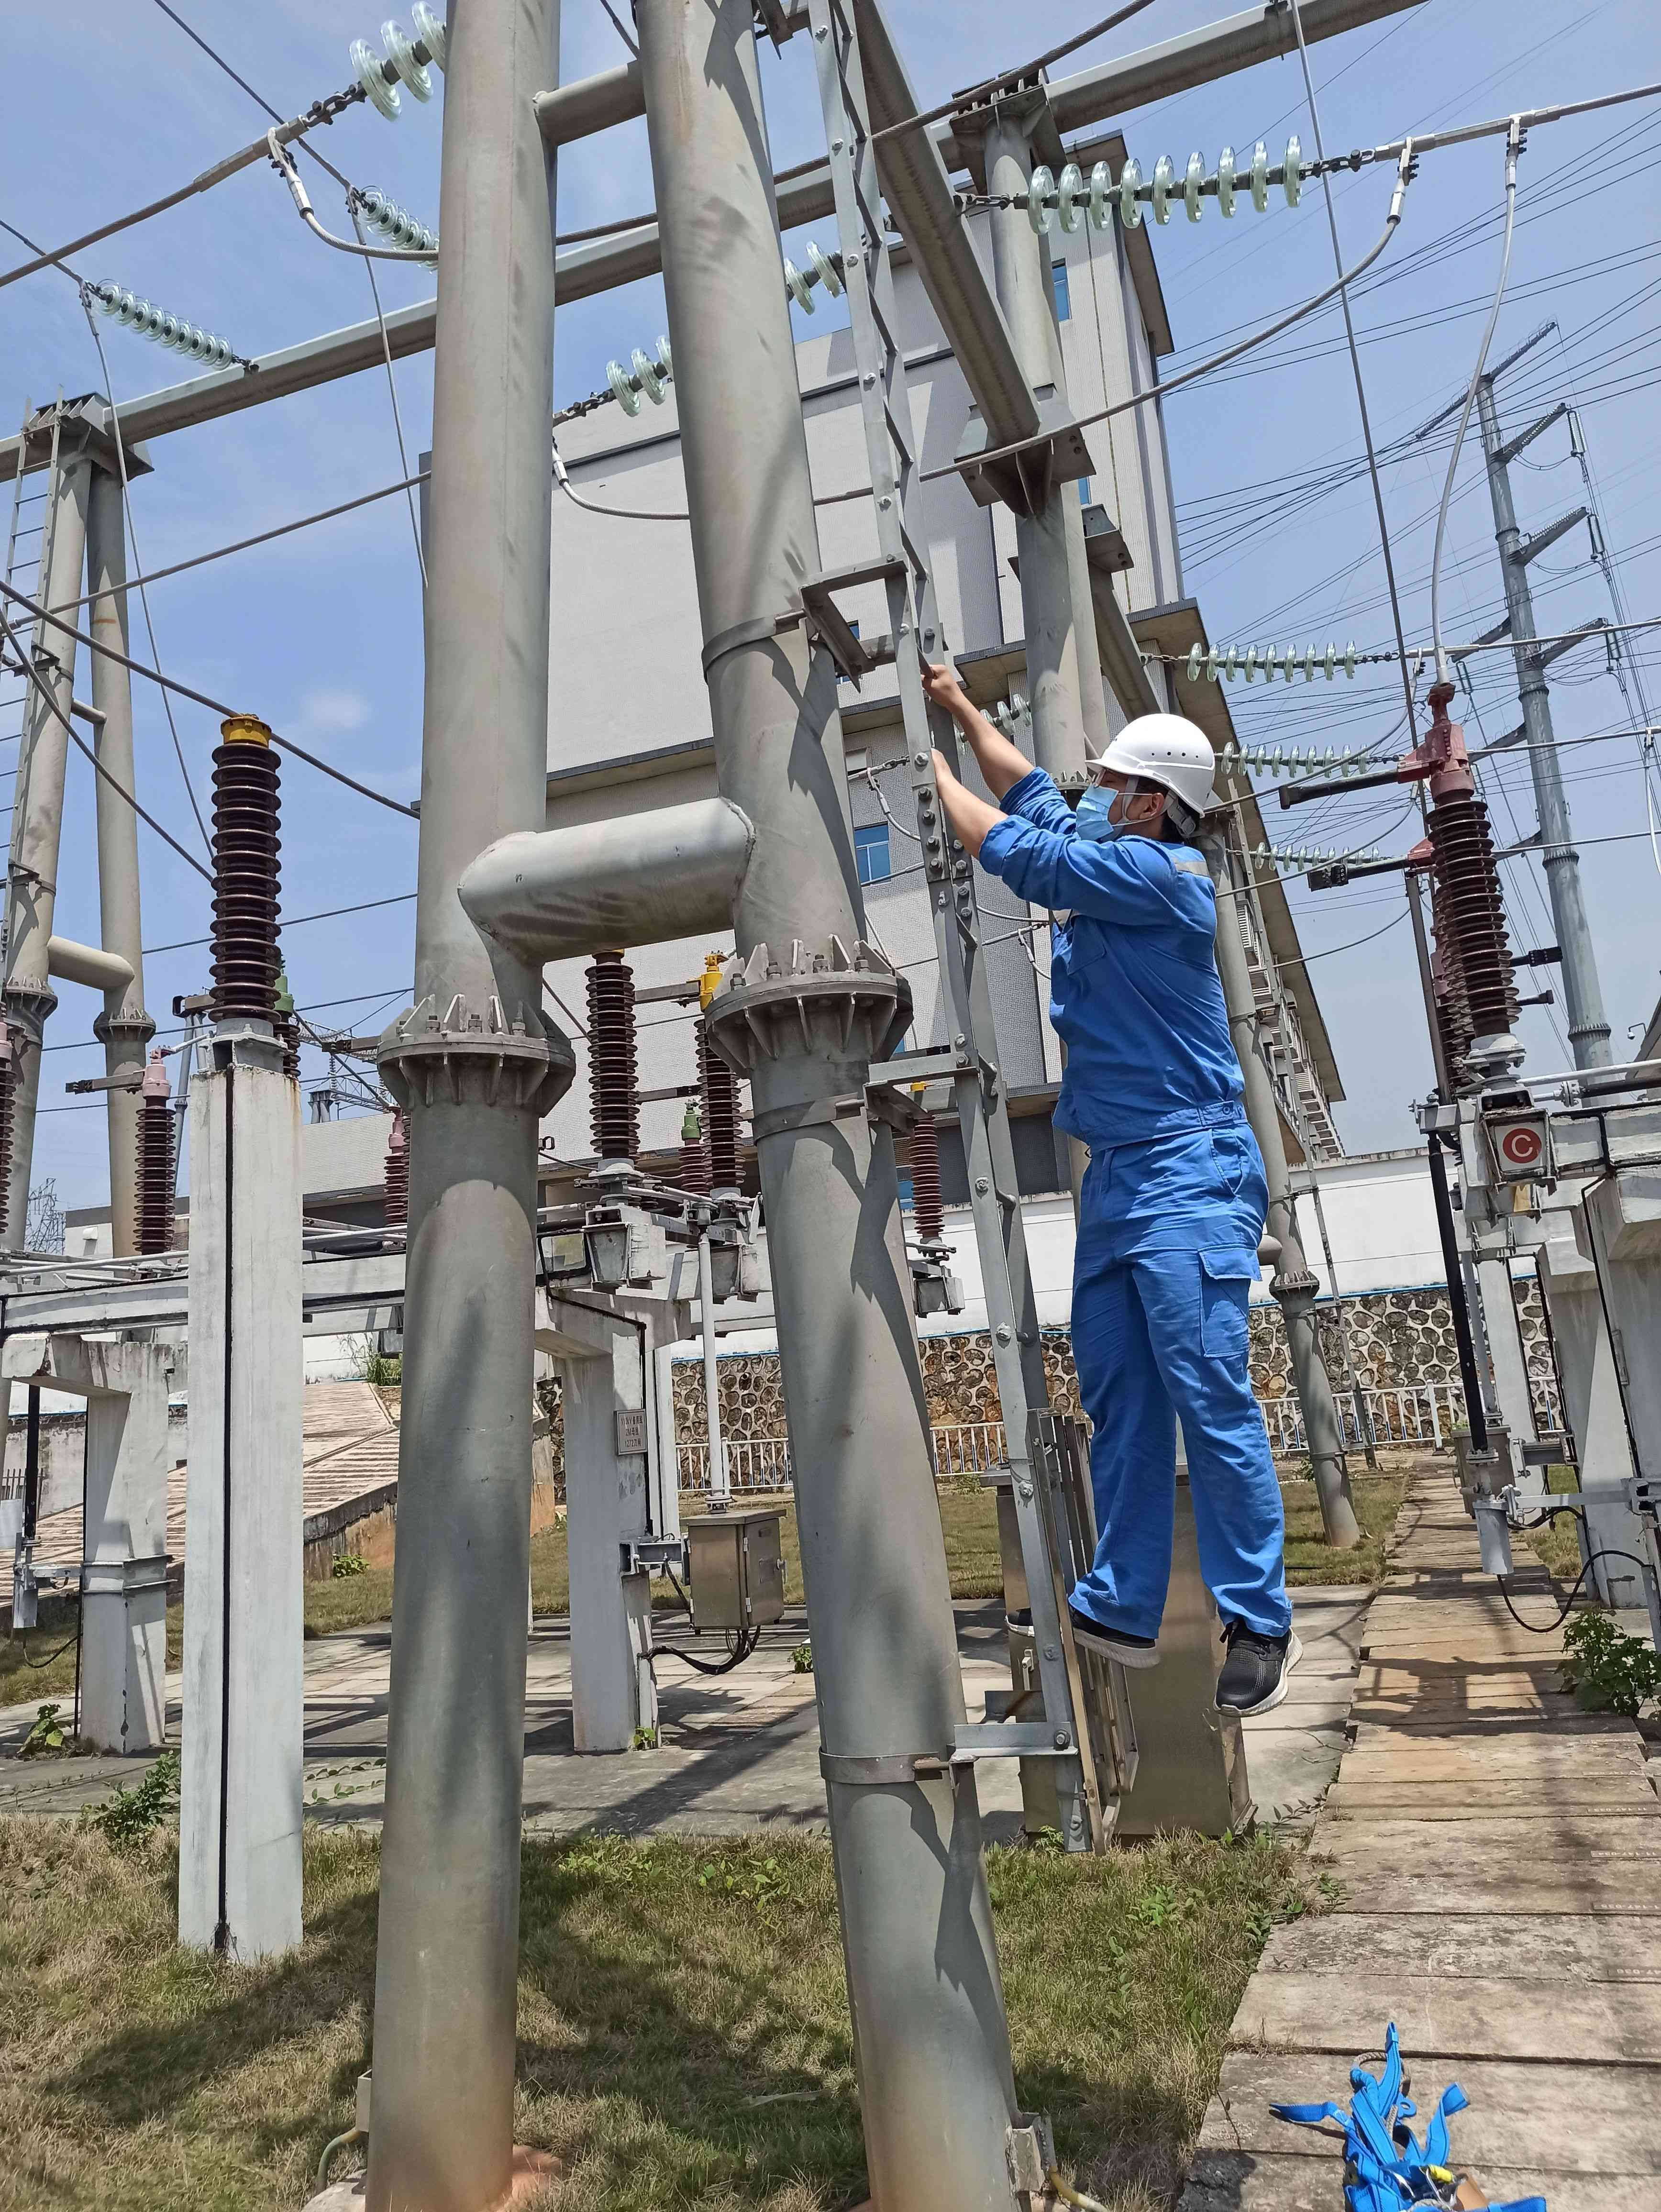downsuit: (1042, 1132, 1319, 1657)
upsuit: (988, 773, 1267, 1134)
wrongtop: (916, 661, 1047, 870)
